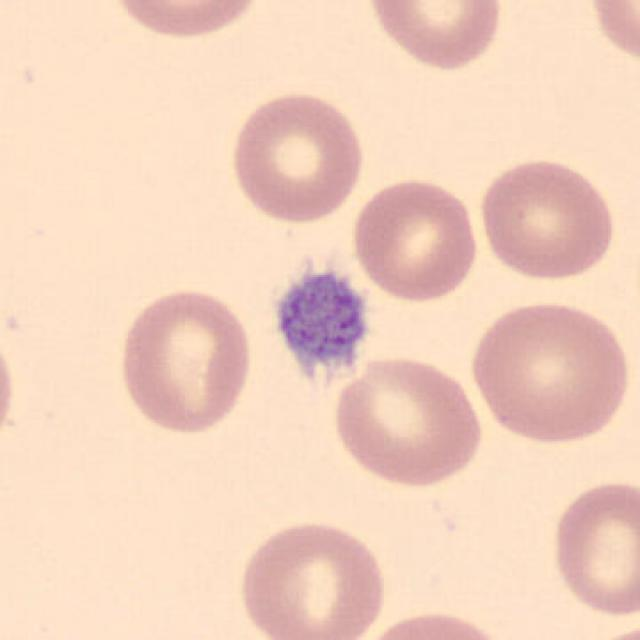Platelets: (261, 259, 377, 399)
RBC: (464, 294, 633, 448), (327, 351, 487, 490), (114, 284, 256, 437), (226, 86, 370, 228), (233, 515, 389, 640), (474, 153, 618, 284), (346, 173, 482, 305), (546, 474, 638, 621), (361, 0, 508, 74), (103, 0, 268, 42), (352, 606, 512, 640), (583, 0, 640, 72), (0, 315, 21, 456), (576, 620, 640, 640)
